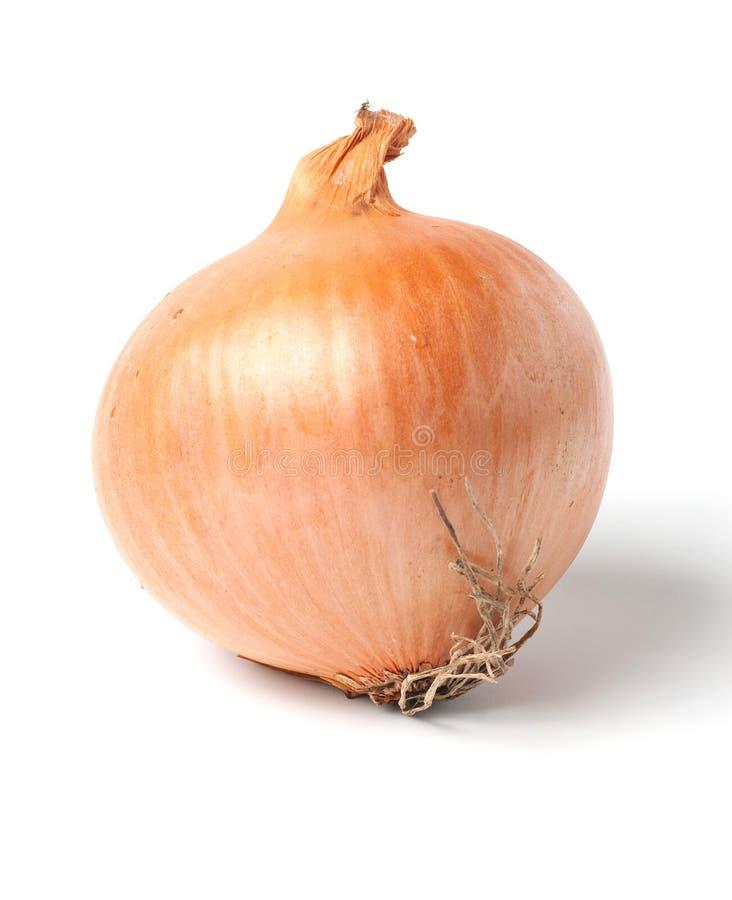Onion: (93, 105, 612, 715)
